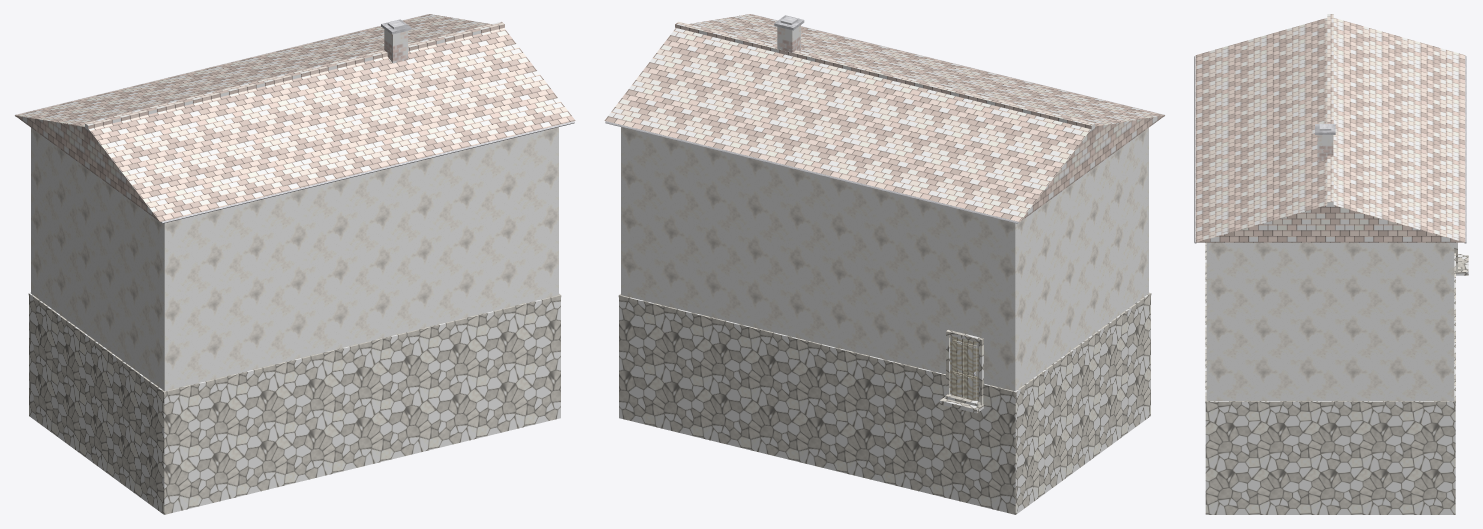
3 renders of one model, left to right at view 1: azimuth 30°, elevation 25°; view 2: azimuth 150°, elevation 25°; view 3: azimuth 270°, elevation 25°, orthographic. The views are drawn at different scales.
Parts seen in each view (by area): view 1: b615534373; view 2: b615534373; view 3: b615534373.
Boxes of the visible parts, <box> form: b615534373: <box>15,14,575,514</box>; b615534373: <box>604,14,1164,514</box>; b615534373: <box>1194,14,1468,514</box>.
Bounding box in the file's own units: 13.88 × 11.82 × 8.56.
14 materials, 14 textured.
